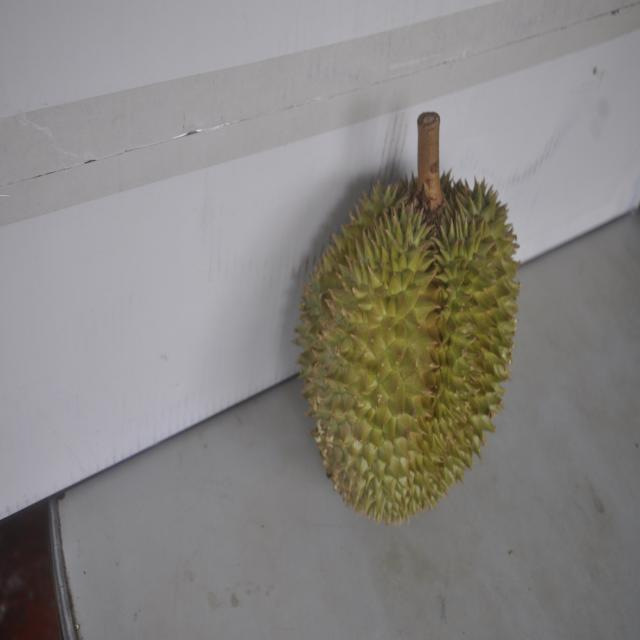mature: (296, 123, 520, 524)
